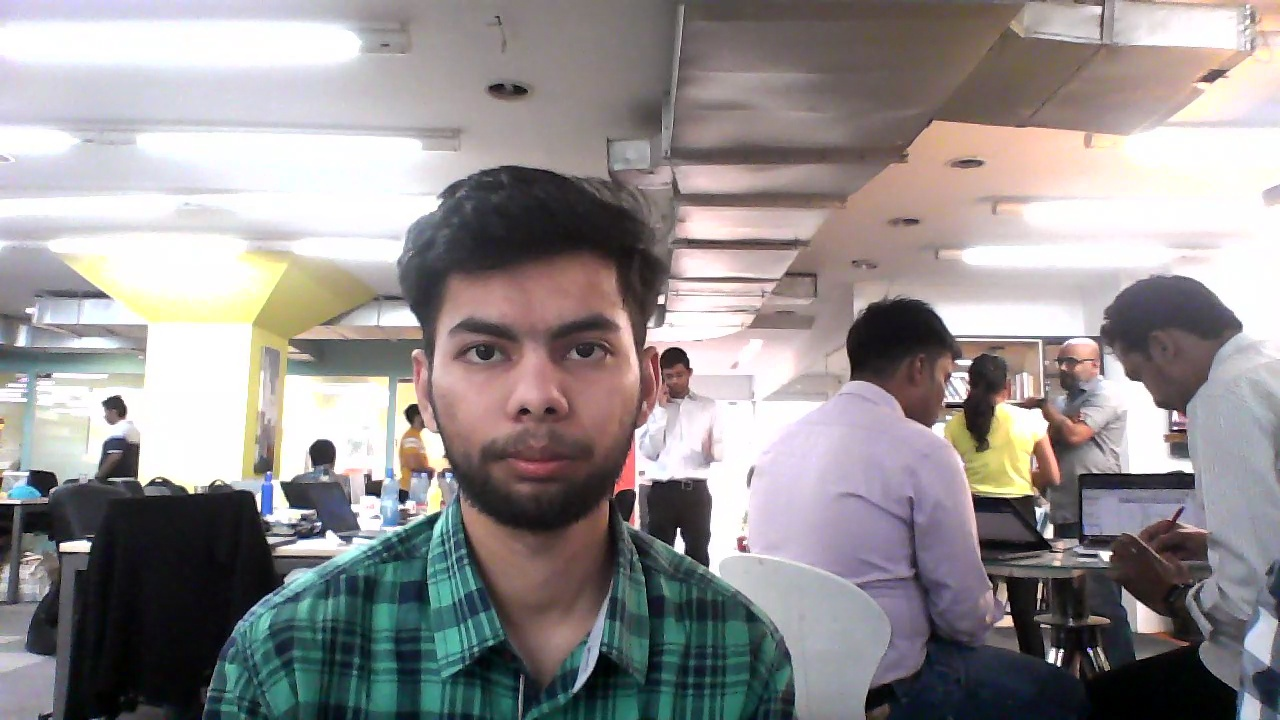open: (412, 193, 645, 522)
